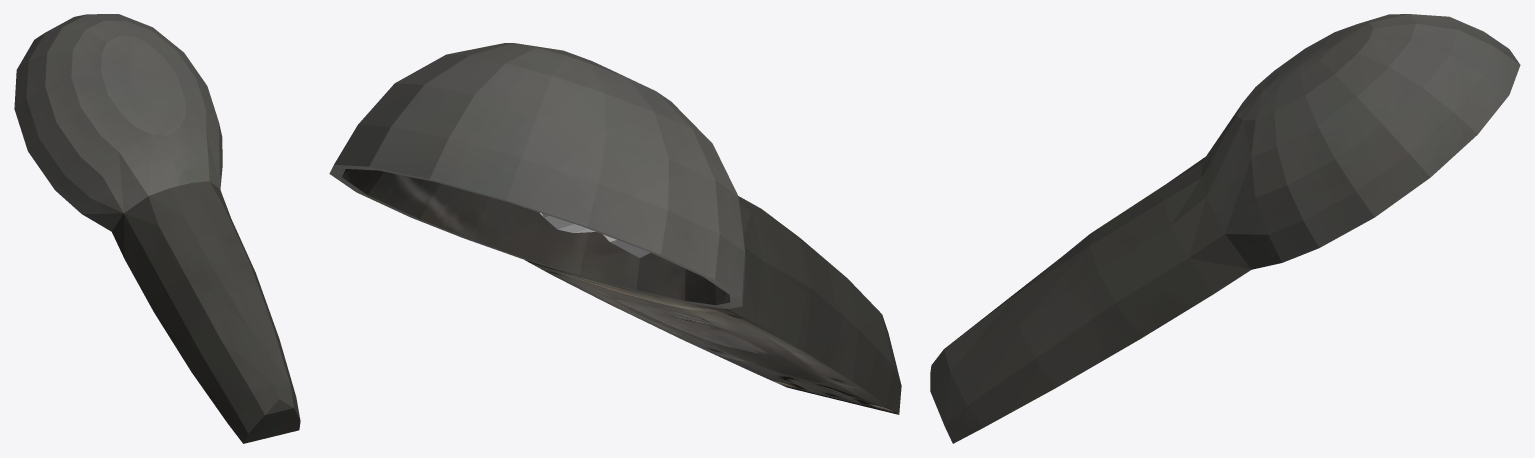
Rendered from lampSov2_04.glb.
3 renders of one model, left to right at view 1: azimuth 30°, elevation 25°; view 2: azimuth 150°, elevation 25°; view 3: azimuth 270°, elevation 25°, orthographic. The views are drawn at different scales.
Parts seen in each view (by area): view 1: geometry_0; view 2: geometry_0; view 3: geometry_0.
Part boxes in pixels (x1=…): geometry_0: x1=14, y1=14, x2=300, y2=443; geometry_0: x1=329, y1=43, x2=901, y2=414; geometry_0: x1=930, y1=14, x2=1520, y2=443.
Size of the model in its own units: 1.28 by 2 by 2.66.
Materials: 1 (1 with a texture image).
